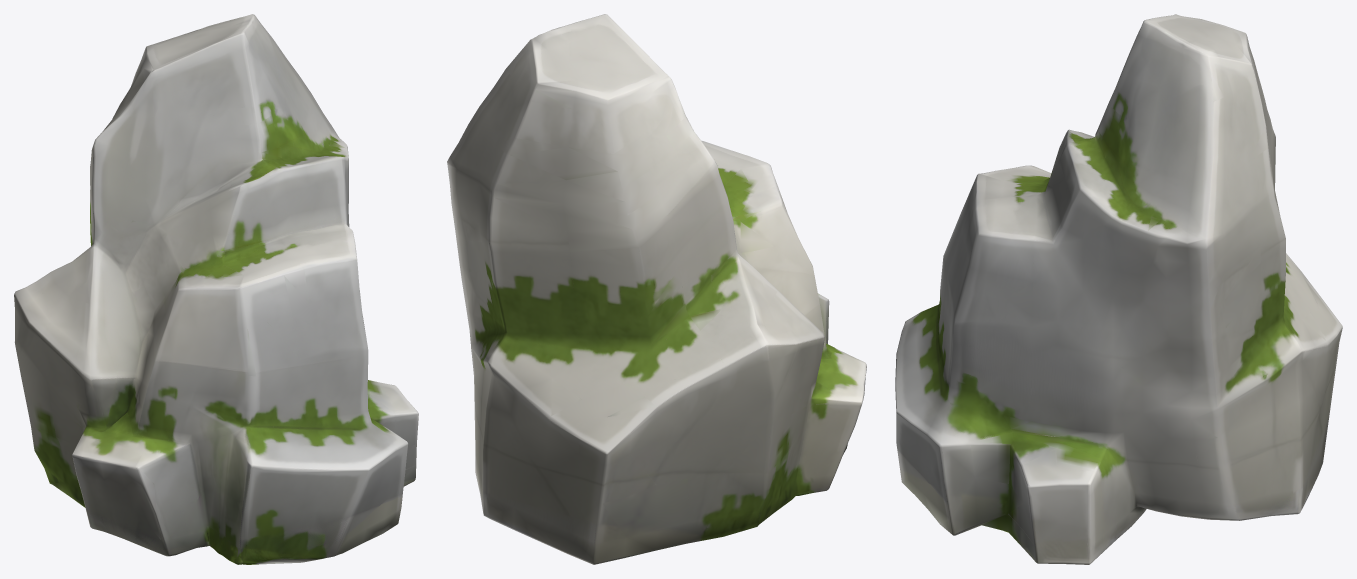
Rendered from Meshy_AI_Mossy_Monolith_0313125952_texture.obj.
The picture shows the model from 3 angles, left to right: view 1: azimuth 30°, elevation 25°; view 2: azimuth 150°, elevation 25°; view 3: azimuth 270°, elevation 25°; orthographic projection. The views are drawn at different scales.
Visible parts, largest first — view 1: Meshy_AI_Mossy_Monolith_0313125952_texture; view 2: Meshy_AI_Mossy_Monolith_0313125952_texture; view 3: Meshy_AI_Mossy_Monolith_0313125952_texture.
Boxes of the visible parts, box(x1,y1,x2,y2) form: Meshy_AI_Mossy_Monolith_0313125952_texture: box(14, 14, 418, 564); Meshy_AI_Mossy_Monolith_0313125952_texture: box(447, 14, 866, 564); Meshy_AI_Mossy_Monolith_0313125952_texture: box(895, 14, 1342, 564).
Size of the model in its own units: 1.5 by 1.9 by 1.6.
1 material, 1 textured.
